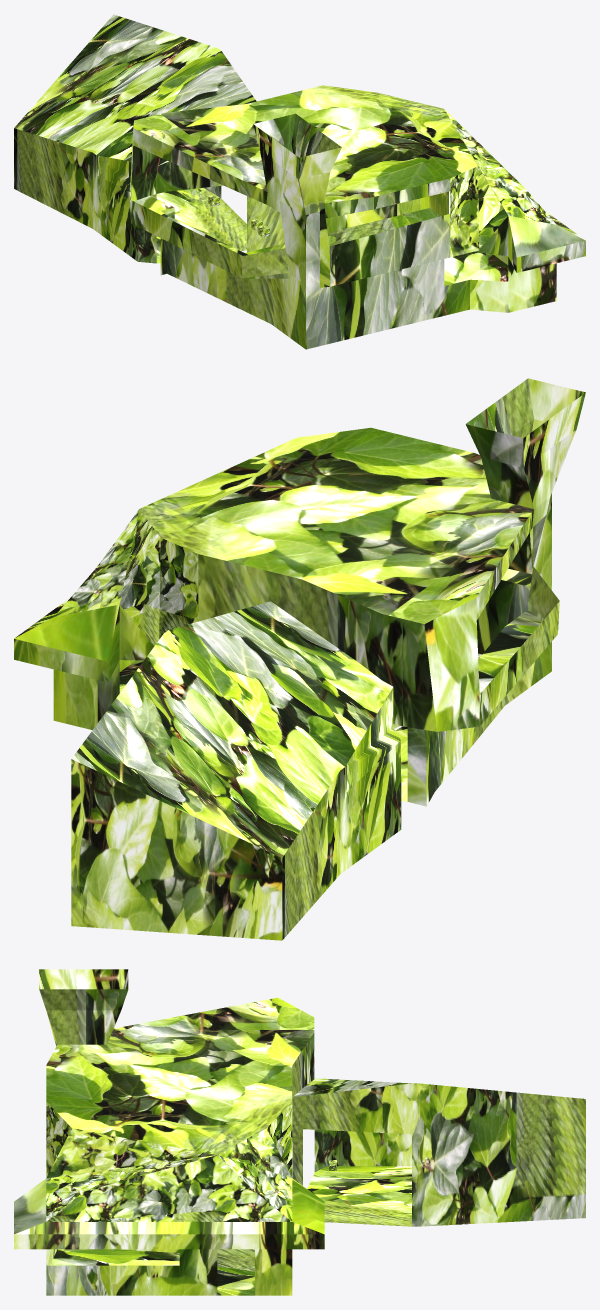
The model's file is factory.glb.
3 views of the same model, one above another, from view 1: azimuth 30°, elevation 25°; view 2: azimuth 150°, elevation 25°; view 3: azimuth 270°, elevation 25° (orthographic). The views are drawn at different scales.
Visible parts, largest first — view 1: Factory, Shed; view 2: Factory, Shed; view 3: Factory, Shed.
Part boxes in pixels (<box>): Factory: <box>129,85,585,349</box>; Shed: <box>14,14,256,263</box>; Factory: <box>14,378,585,806</box>; Shed: <box>71,601,401,940</box>; Factory: <box>14,969,324,1295</box>; Shed: <box>292,1078,585,1226</box>.
Size of the model in its own units: 89.29 by 56.26 by 143.
3 materials, 3 textured.
